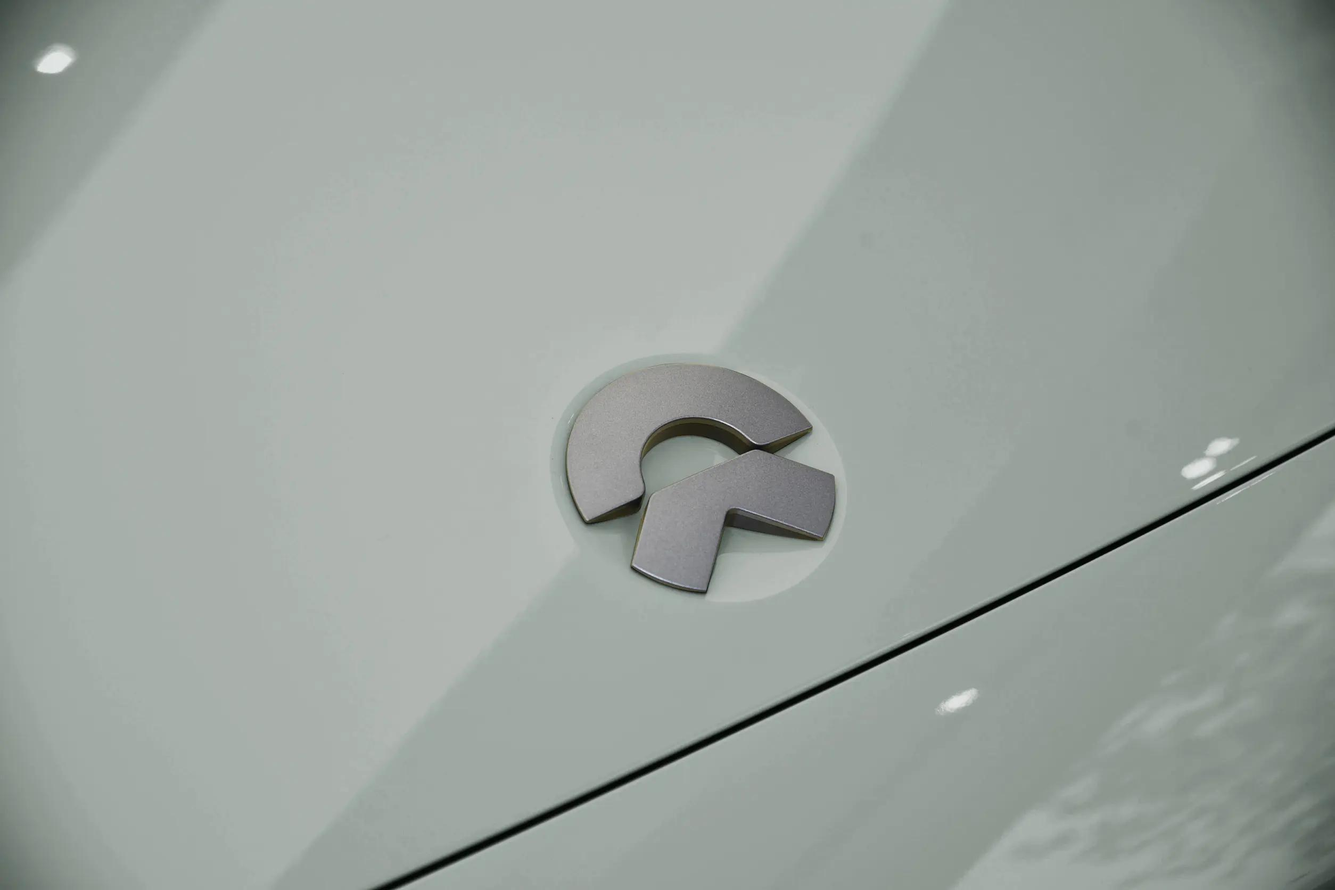NIO: (563, 362, 835, 593)
